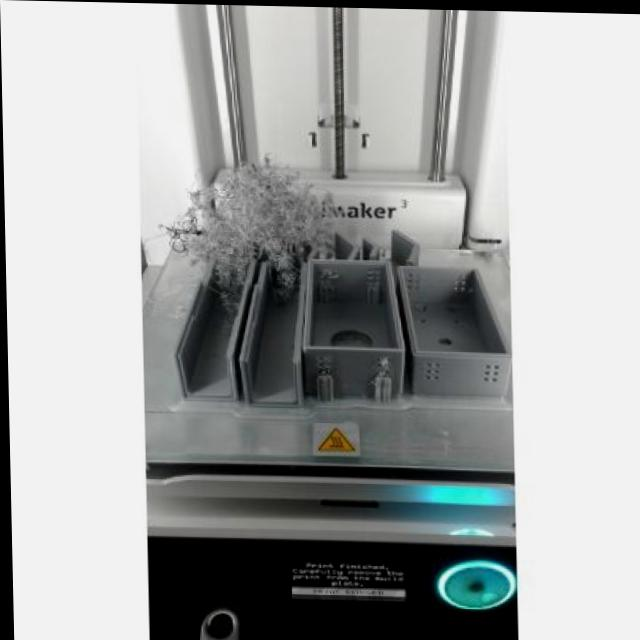spaghetti: (165, 153, 358, 287)
